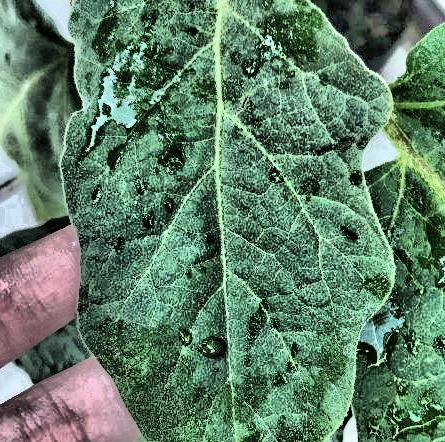HEALTHY: (52, 0, 445, 260)
